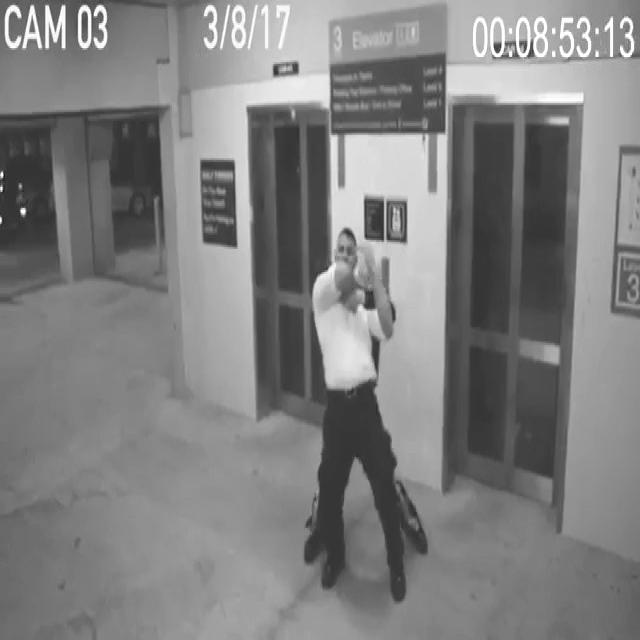fight: (302, 222, 429, 604)
